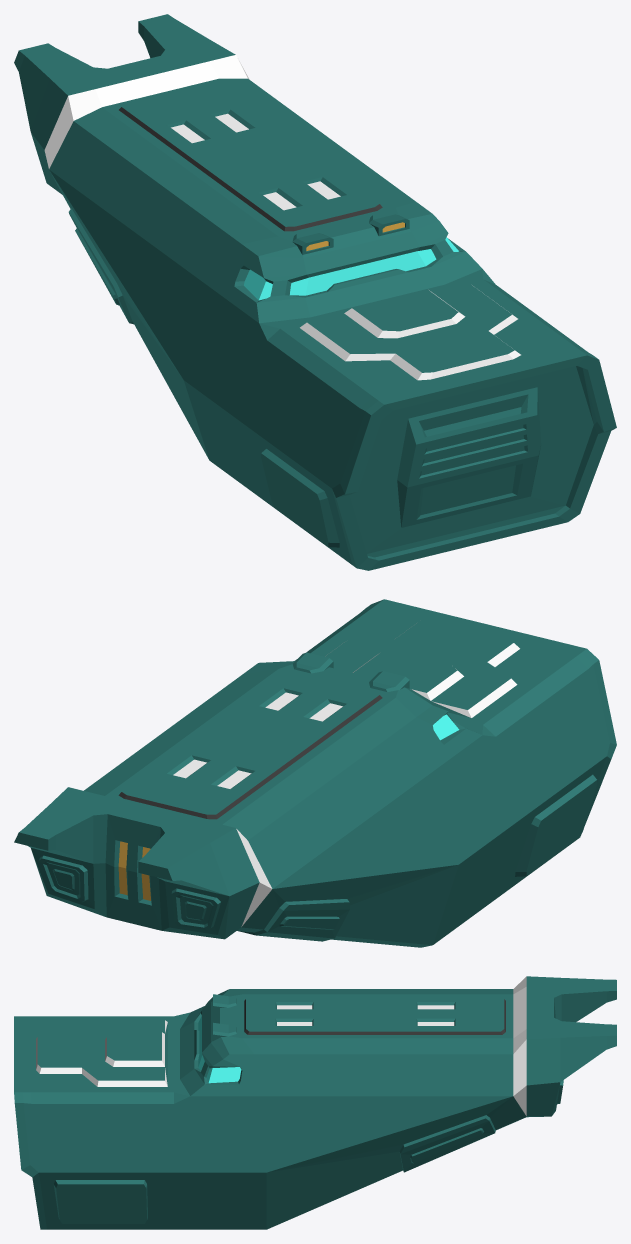
Rendered from Ship_1x2_B2.fbx.
3 views of the same model, one above another, from view 1: azimuth 30°, elevation 25°; view 2: azimuth 150°, elevation 25°; view 3: azimuth 270°, elevation 25° (orthographic). The views are drawn at different scales.
Visible parts, largest first — view 1: Ship_1x2_B2; view 2: Ship_1x2_B2; view 3: Ship_1x2_B2.
Part boxes in pixels (bbox=[...]): Ship_1x2_B2: bbox=[14, 14, 616, 570]; Ship_1x2_B2: bbox=[14, 599, 616, 947]; Ship_1x2_B2: bbox=[14, 976, 616, 1229].
Bounding box in the file's own units: 75.66 × 61.87 × 184.
